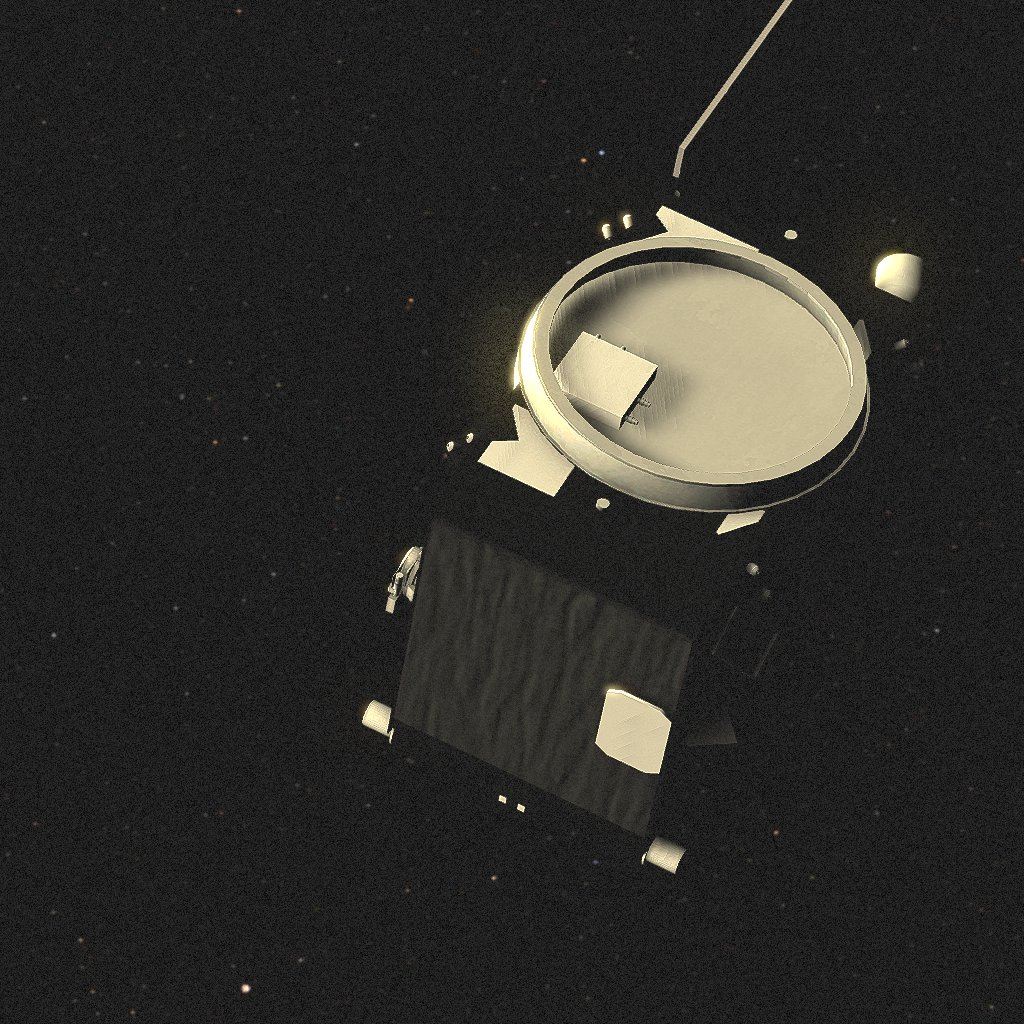proba_3_csc: (363, 0, 932, 874)
